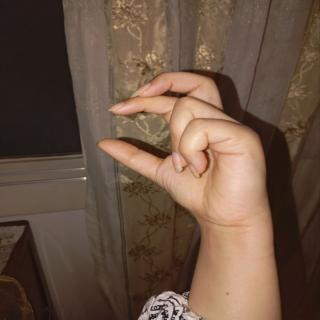DHELL: (89, 68, 301, 250)
